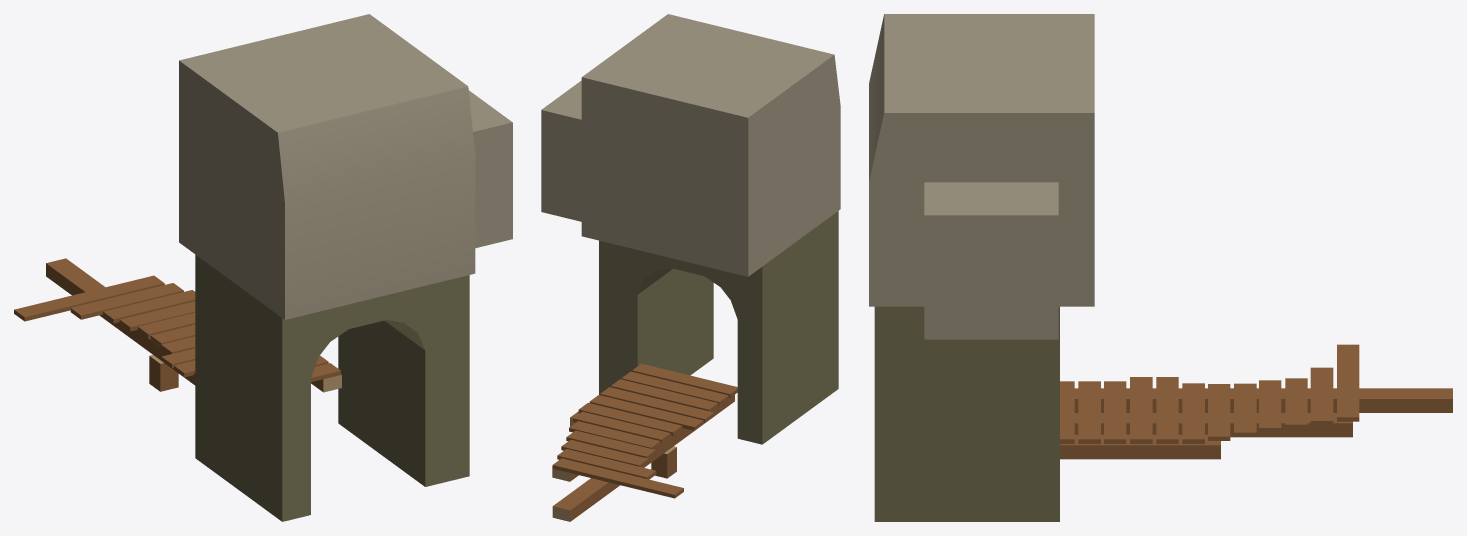
3 views of the same model, side by side, from view 1: azimuth 30°, elevation 25°; view 2: azimuth 150°, elevation 25°; view 3: azimuth 270°, elevation 25° (orthographic). The views are drawn at different scales.
Parts seen in each view (by area): view 1: Box904_wall3_0, Object192_rock2_0, Plane294_brown_0, Box992_brown_0, Box994_brown_0; view 2: Box904_wall3_0, Object192_rock2_0, Plane294_brown_0, Box992_brown_0, Box994_brown_0, Box992_brown2_0; view 3: Box904_wall3_0, Object192_rock2_0, Plane294_brown_0, Box992_brown_0, Box999_brown_0.
Boxes of the visible parts, <box> form: Box904_wall3_0: <box>179,14,512,319</box>; Object192_rock2_0: <box>195,254,469,521</box>; Plane294_brown_0: <box>14,275,340,381</box>; Box992_brown_0: <box>46,258,195,385</box>; Box994_brown_0: <box>149,356,178,391</box>; Box904_wall3_0: <box>541,14,840,276</box>; Object192_rock2_0: <box>599,211,838,444</box>; Plane294_brown_0: <box>552,363,737,498</box>; Box992_brown_0: <box>553,395,734,521</box>; Box994_brown_0: <box>651,447,676,478</box>; Box992_brown2_0: <box>552,466,570,521</box>; Box904_wall3_0: <box>869,14,1094,339</box>; Object192_rock2_0: <box>874,306,1059,521</box>; Plane294_brown_0: <box>1060,344,1359,443</box>; Box992_brown_0: <box>1074,388,1452,437</box>; Box999_brown_0: <box>1060,434,1220,459</box>.
Bounding box in the file's own units: 586 × 734 × 945.
